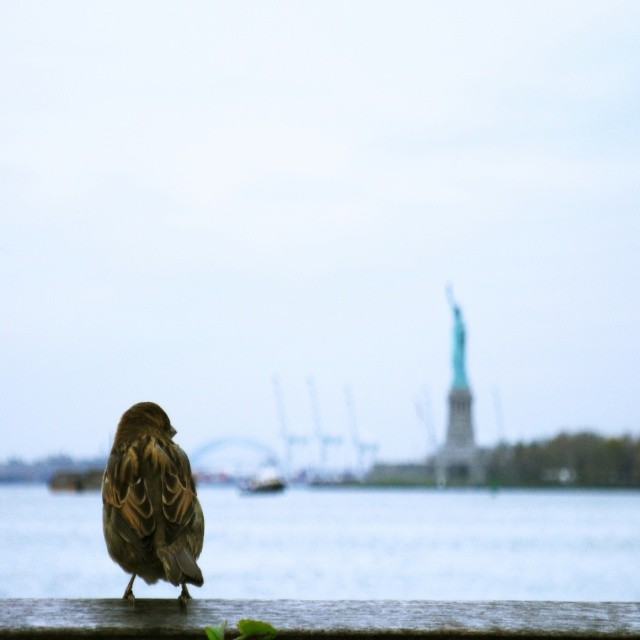Sparrow: (104, 397, 206, 601)
